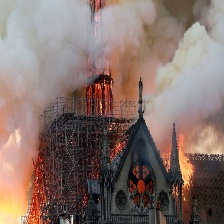fire: (91, 2, 110, 112), (164, 142, 198, 187), (27, 163, 46, 224)
smoke: (2, 1, 224, 165)
